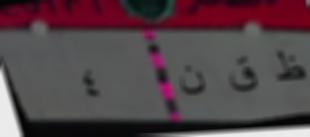4: (77, 63, 106, 105)
Thaa: (274, 47, 306, 88)
noon: (175, 59, 213, 101)
qaaf: (225, 53, 261, 103)
